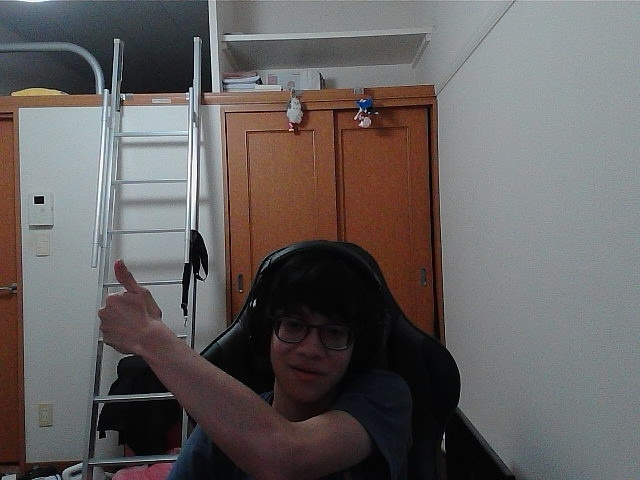thumb_up: (103, 263, 151, 341)
